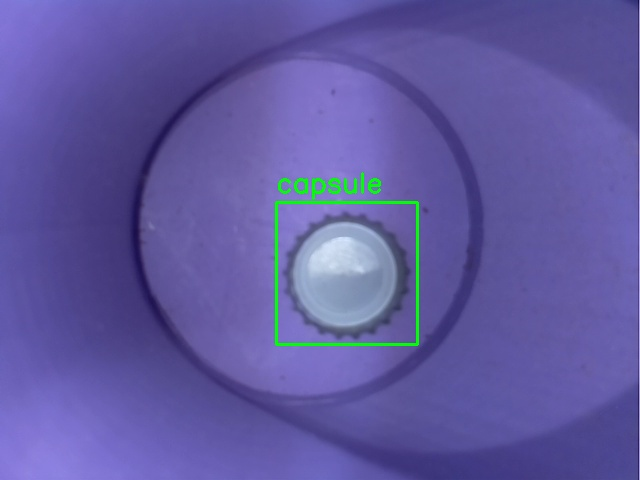capsule: (276, 202, 417, 344)
